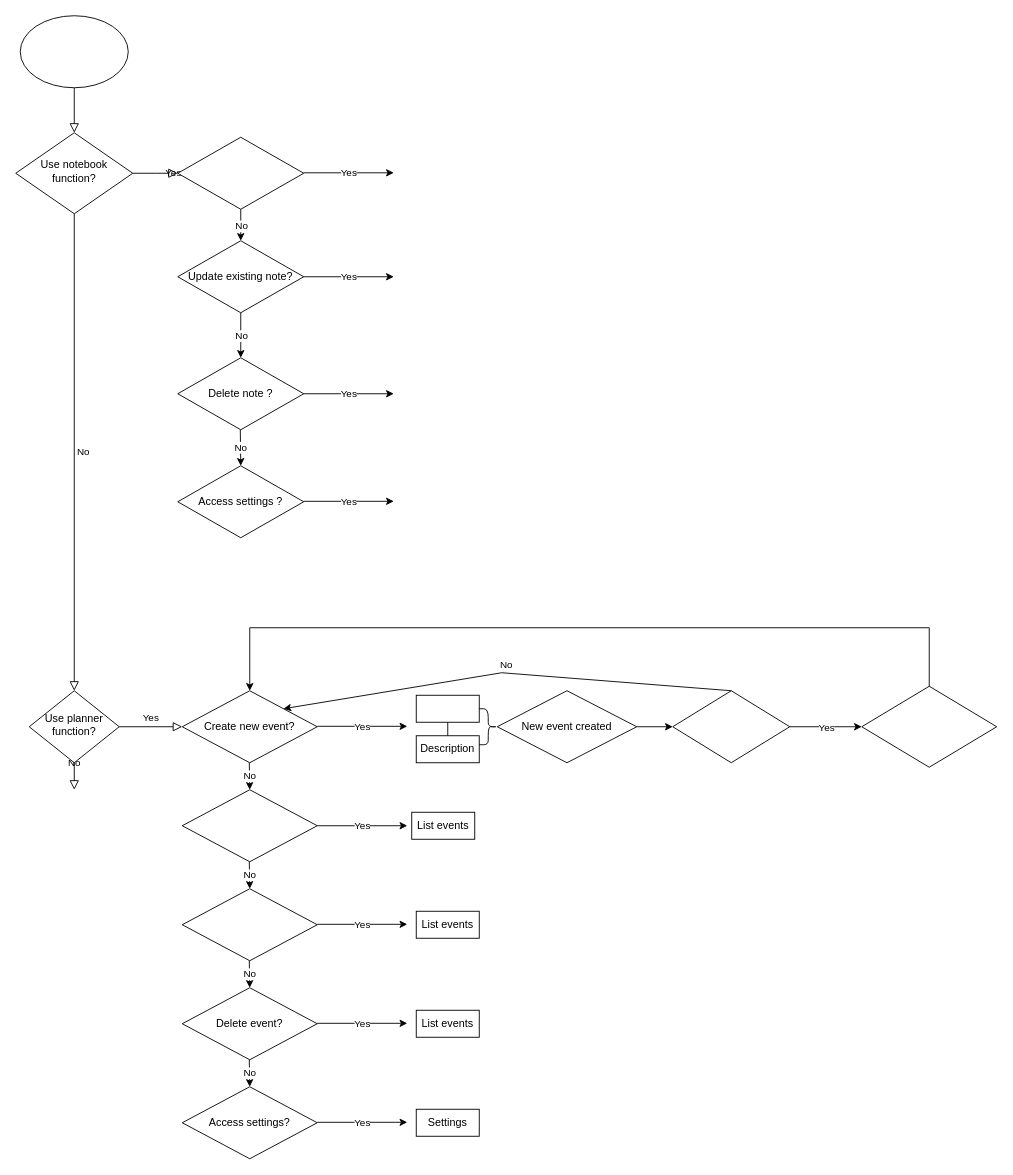
This 1013x1175 diagram has some shape labels left out. The box of each missing label's shape, as (x1, y1, x2, y2) in pixels:
Create new note ?: (177, 136, 304, 209)
Date: (415, 694, 479, 722)
launch app: (19, 15, 128, 88)
New event is added to calendar: (861, 685, 997, 767)
Save new event?: (672, 690, 790, 763)
Update existing event?: (181, 888, 317, 961)
View events?: (181, 789, 317, 862)
